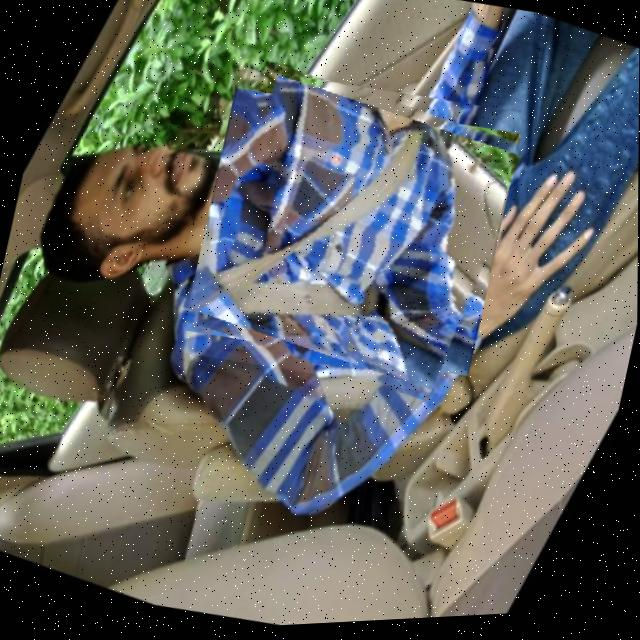seatbelt: (180, 57, 524, 413)
